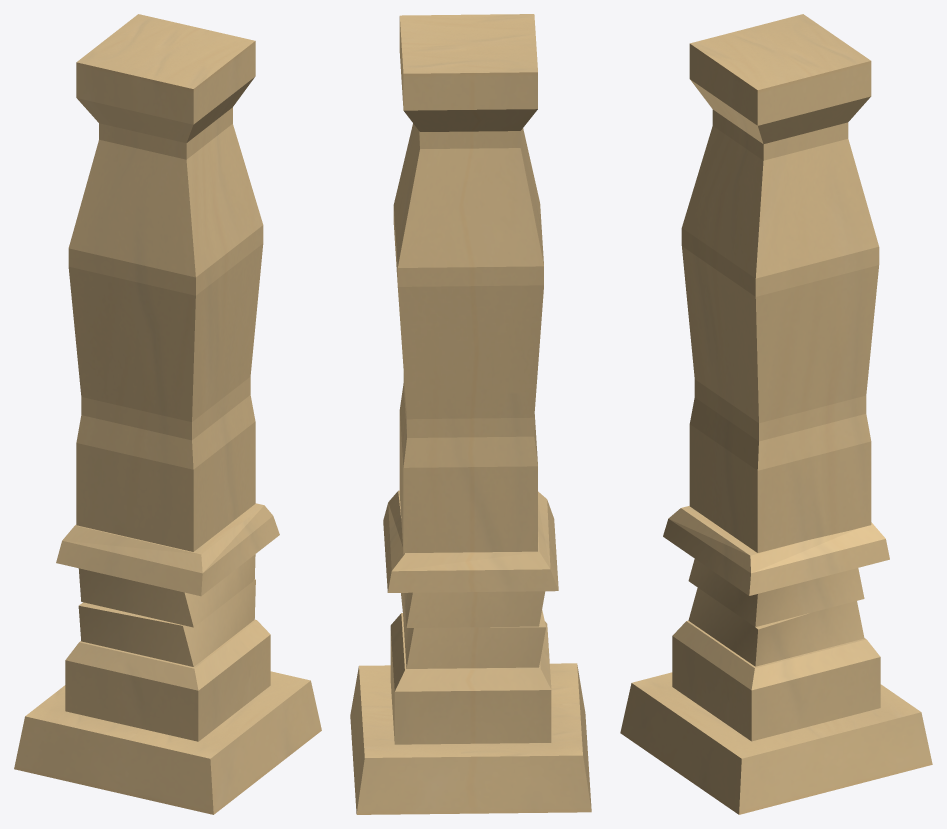
The model's file is Column2A.FBX.
3 views of the same model, side by side, from view 1: azimuth 30°, elevation 25°; view 2: azimuth 150°, elevation 25°; view 3: azimuth 270°, elevation 25° (orthographic). The views are drawn at different scales.
Parts seen in each view (by area): view 1: Column2A; view 2: Column2A; view 3: Column2A.
Part boxes in pixels (x1,y1,x2,y2): Column2A: [14, 14, 321, 814]; Column2A: [350, 14, 591, 814]; Column2A: [620, 14, 932, 814].
Bounding box in the file's own units: 8.25 × 8.25 × 20.31.
1 material, 1 textured.
